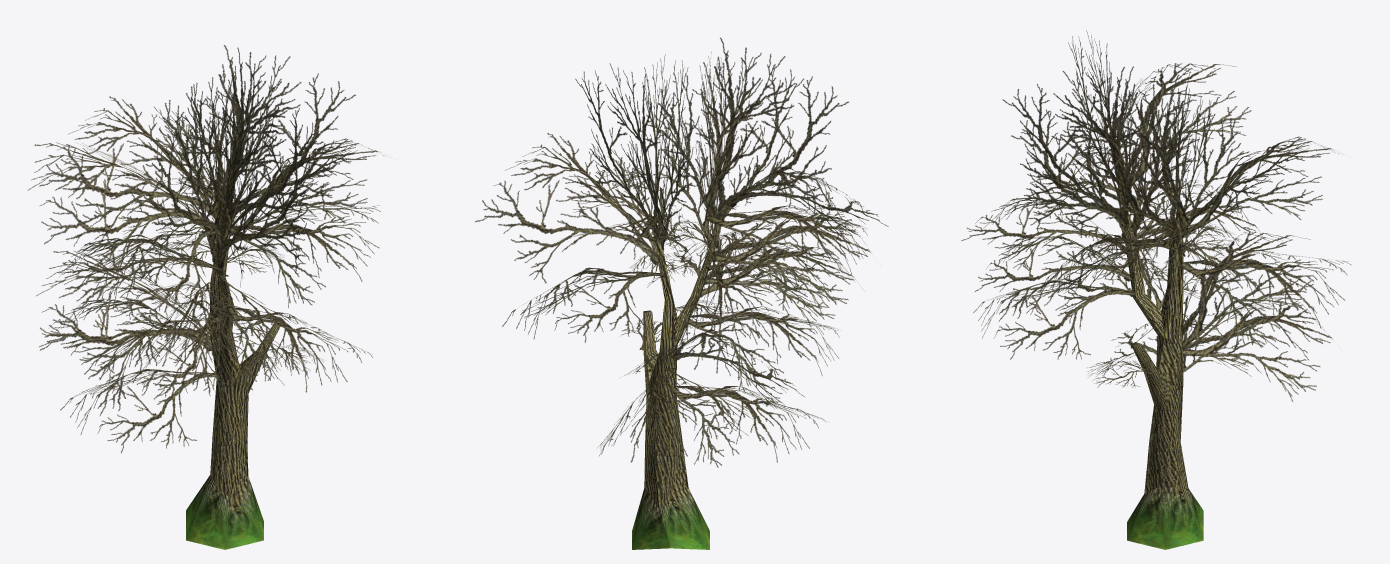
File: tree6_15.glb
3 renders of one model, left to right at view 1: azimuth 30°, elevation 25°; view 2: azimuth 150°, elevation 25°; view 3: azimuth 270°, elevation 25°, orthographic.
Visible parts, largest first — view 1: tree6_15; view 2: tree6_15; view 3: tree6_15.
Boxes of the visible parts, bbox=[...] form: tree6_15: bbox=[28, 45, 385, 549]; tree6_15: bbox=[475, 37, 888, 549]; tree6_15: bbox=[961, 30, 1351, 549].
Bounding box in the file's own units: 10.99 × 13.11 × 10.44.
Materials: 3 (3 with a texture image).
